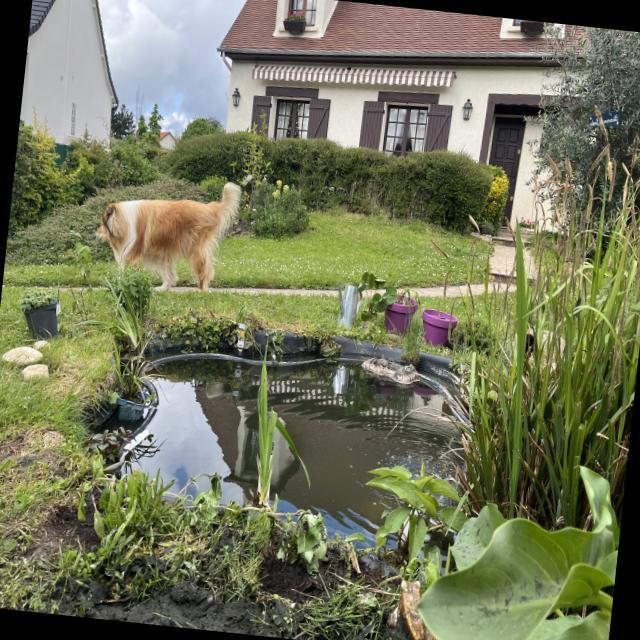Dog: (83, 158, 248, 307)
